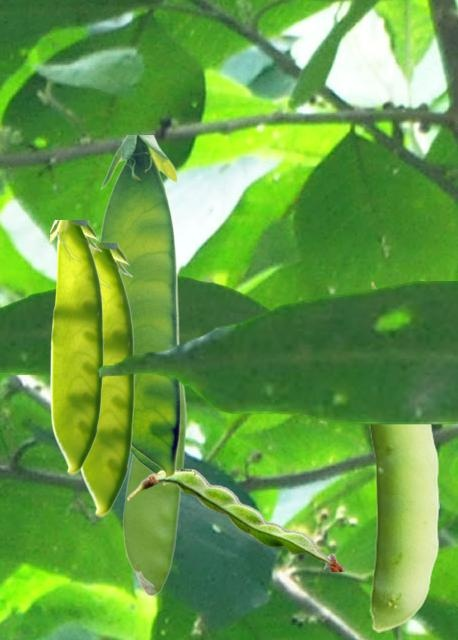pea: (99, 135, 179, 478), (367, 281, 438, 631), (127, 468, 344, 570), (80, 243, 134, 516), (50, 220, 103, 474), (122, 386, 186, 595), (132, 448, 167, 484)
